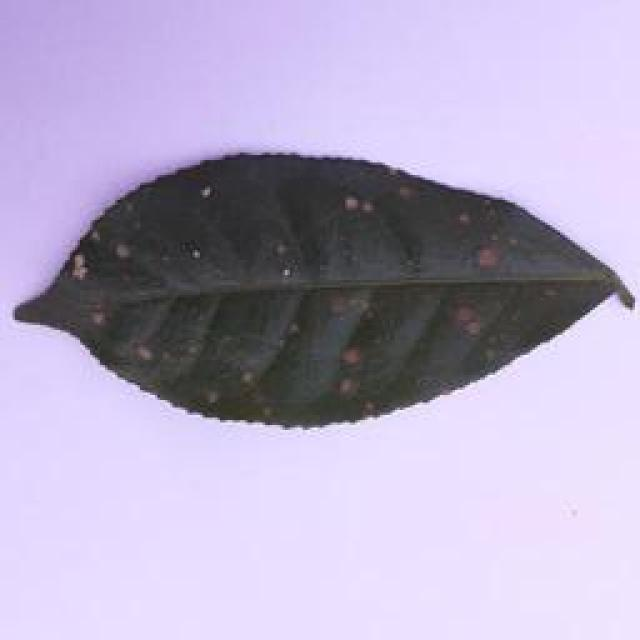Algal Leaf Spot: (7, 147, 630, 436)
